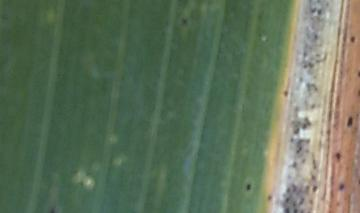tarspot: (345, 115, 354, 128), (265, 193, 273, 202), (181, 16, 188, 26), (48, 207, 58, 213), (245, 183, 252, 191), (335, 151, 340, 162), (282, 89, 288, 97), (350, 35, 355, 43), (340, 183, 345, 190), (358, 89, 360, 98), (358, 70, 360, 78)
